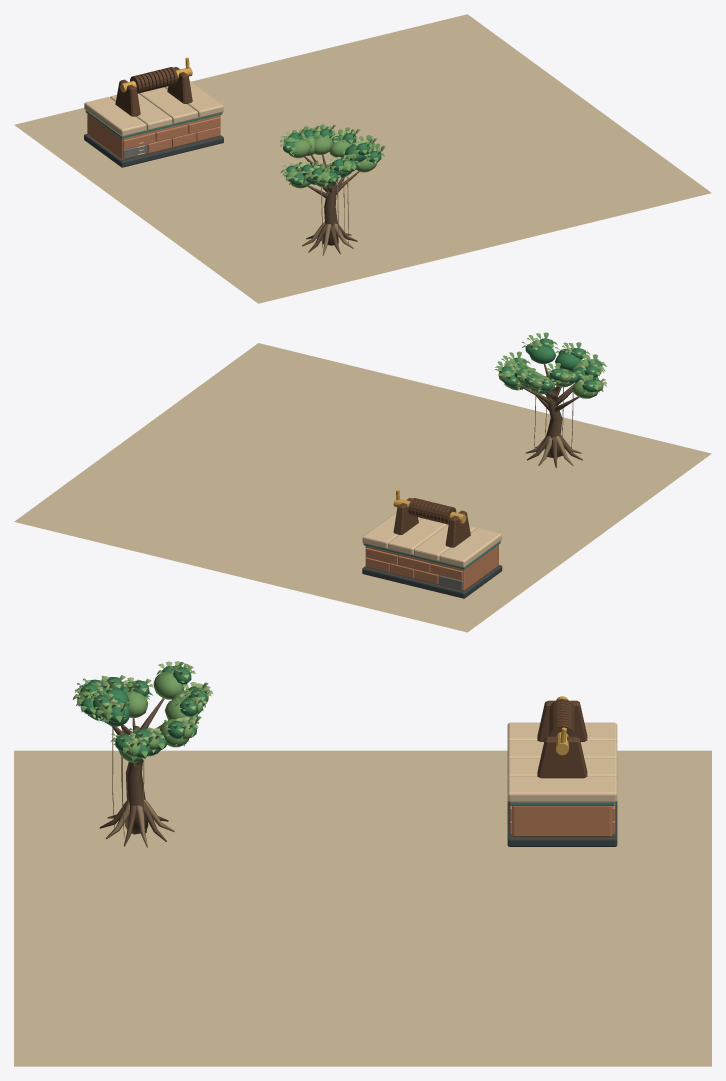
The model's file is room-bank.glb.
3 renders of one model, top to bottom at view 1: azimuth 30°, elevation 25°; view 2: azimuth 150°, elevation 25°; view 3: azimuth 270°, elevation 25°, orthographic. The views are drawn at different scales.
Parts seen in each view (by area): view 1: Surveyed floor · room-bank, Dry Bank · pollarded mangrove, Dry Bank · ringed mooring winch · timber, Split coping, Bank batter, Bank footing, Split coping.002, Split coping.001, Split coping.003; view 2: Surveyed floor · room-bank, Dry Bank · pollarded mangrove, Dry Bank · ringed mooring winch · timber, Split coping, Bank batter, Bank footing, Split coping.002, Split coping.001, Split coping.003; view 3: Surveyed floor · room-bank, Dry Bank · pollarded mangrove, Dry Bank · ringed mooring winch · timber, Bank batter, Split coping.003, Split coping.001, Bank footing, Split coping.002, Split coping.
Part boxes in pixels (left/top/right/bottom): Surveyed floor · room-bank: left=14, top=14, right=711, bottom=303; Dry Bank · pollarded mangrove: left=280, top=124, right=385, bottom=255; Dry Bank · ringed mooring winch · timber: left=115, top=67, right=192, bottom=116; Split coping: left=84, top=97, right=146, bottom=136; Bank batter: left=87, top=114, right=220, bottom=159; Bank footing: left=84, top=134, right=223, bottom=167; Split coping.002: left=139, top=87, right=197, bottom=123; Split coping.001: left=110, top=93, right=172, bottom=130; Split coping.003: left=164, top=81, right=223, bottom=117; Surveyed floor · room-bank: left=14, top=343, right=711, bottom=632; Dry Bank · pollarded mangrove: left=495, top=332, right=606, bottom=467; Dry Bank · ringed mooring winch · timber: left=393, top=498, right=470, bottom=547; Split coping: left=439, top=528, right=501, bottom=567; Bank batter: left=365, top=545, right=498, bottom=590; Bank footing: left=362, top=565, right=502, bottom=598; Split coping.002: left=388, top=518, right=447, bottom=554; Split coping.001: left=414, top=524, right=476, bottom=561; Split coping.003: left=362, top=512, right=421, bottom=548; Surveyed floor · room-bank: left=14, top=750, right=711, bottom=1066; Dry Bank · pollarded mangrove: left=73, top=661, right=213, bottom=847; Dry Bank · ringed mooring winch · timber: left=537, top=698, right=587, bottom=778; Bank batter: left=512, top=806, right=612, bottom=837; Split coping.003: left=507, top=776, right=617, bottom=802; Split coping.001: left=507, top=740, right=617, bottom=760; Bank footing: left=507, top=801, right=617, bottom=846; Split coping.002: left=507, top=758, right=617, bottom=777; Split coping: left=507, top=722, right=617, bottom=742.
Bounding box in the file's own units: 15 × 3.38 × 14.
